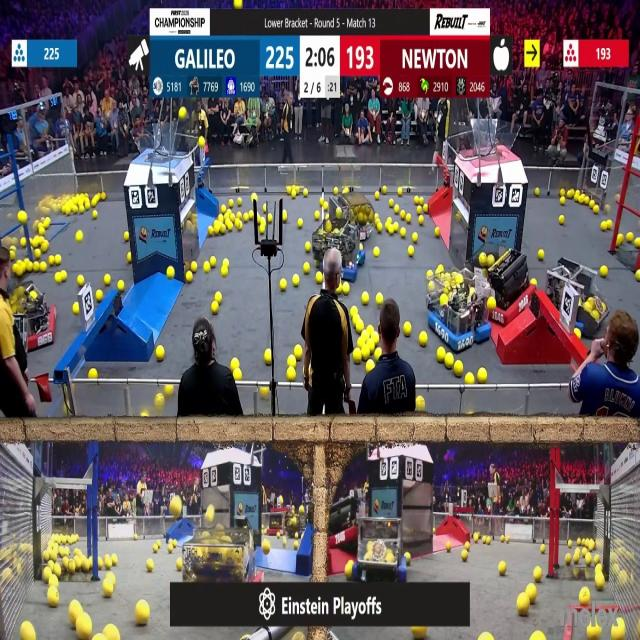ball_airborne: (171, 496, 182, 516), (206, 508, 215, 524), (179, 107, 187, 119), (199, 137, 206, 148), (235, 0, 243, 9)
ball_ground: (136, 603, 150, 627), (518, 595, 530, 615), (47, 588, 58, 608), (70, 601, 80, 623), (23, 624, 36, 640), (103, 581, 114, 599), (527, 585, 537, 603), (581, 588, 591, 606), (105, 626, 118, 639), (454, 360, 463, 376), (416, 396, 426, 410), (591, 626, 601, 640), (596, 577, 605, 592), (353, 349, 362, 363), (158, 346, 166, 361), (346, 563, 354, 578), (154, 393, 162, 408), (479, 367, 487, 381), (293, 346, 301, 360), (498, 562, 506, 576), (533, 568, 541, 582), (438, 348, 446, 362), (42, 567, 50, 581), (286, 367, 295, 379), (165, 384, 174, 396), (266, 349, 273, 364), (420, 334, 428, 347), (446, 354, 454, 367), (365, 359, 373, 371), (263, 384, 271, 396), (55, 564, 63, 576), (82, 559, 90, 571), (375, 348, 382, 361), (403, 322, 410, 335), (264, 540, 271, 553), (61, 272, 69, 283), (373, 335, 381, 346), (168, 268, 175, 280), (600, 266, 607, 278), (377, 292, 384, 304), (212, 303, 219, 315), (27, 262, 34, 274), (362, 348, 369, 360), (90, 367, 98, 377), (465, 374, 473, 384), (234, 368, 242, 378), (232, 358, 240, 368), (214, 292, 222, 302), (287, 356, 295, 366), (236, 220, 244, 230), (49, 574, 57, 584), (214, 223, 222, 233), (316, 273, 323, 284), (104, 275, 111, 286), (210, 256, 217, 267), (343, 283, 350, 294), (351, 307, 358, 318), (532, 633, 543, 640), (105, 558, 112, 569), (362, 292, 368, 304), (147, 560, 153, 572), (117, 280, 123, 292), (292, 276, 298, 288), (99, 558, 105, 570), (481, 634, 493, 640), (356, 321, 362, 333), (627, 234, 634, 244), (374, 247, 381, 257), (461, 552, 468, 562), (565, 555, 572, 565), (586, 556, 593, 566), (11, 265, 18, 275), (304, 264, 310, 275), (204, 263, 210, 274), (538, 249, 544, 260), (190, 263, 196, 274), (73, 304, 79, 315), (76, 232, 82, 243), (77, 276, 83, 287), (35, 248, 41, 259), (280, 280, 286, 291), (111, 555, 117, 566), (573, 553, 579, 564), (92, 199, 99, 208), (566, 189, 573, 198), (186, 273, 192, 283), (409, 246, 415, 256), (306, 242, 312, 252), (97, 290, 103, 300), (296, 218, 302, 228), (56, 272, 61, 284), (378, 222, 384, 232), (258, 223, 264, 233), (177, 559, 182, 571), (93, 210, 99, 220), (226, 221, 232, 231), (282, 212, 288, 222), (221, 268, 227, 278), (574, 328, 580, 338), (48, 255, 54, 265), (42, 241, 48, 251), (606, 219, 612, 229), (34, 264, 40, 274), (618, 235, 624, 245), (227, 212, 233, 222), (426, 271, 433, 279), (434, 229, 440, 238), (56, 255, 62, 264), (413, 234, 419, 243), (40, 264, 46, 273), (560, 198, 566, 207), (78, 206, 84, 215), (594, 206, 600, 215), (243, 213, 249, 222), (9, 251, 15, 260), (366, 324, 372, 333), (428, 282, 434, 291), (257, 214, 263, 223), (439, 266, 445, 275), (486, 538, 492, 547), (382, 185, 388, 194), (128, 252, 133, 262), (315, 210, 320, 220), (249, 210, 254, 220), (357, 338, 362, 348), (338, 284, 343, 294), (19, 239, 25, 247), (222, 258, 228, 266), (417, 207, 423, 215), (539, 544, 545, 552), (251, 192, 257, 200), (388, 200, 394, 208), (407, 214, 413, 222), (208, 226, 214, 234), (227, 200, 233, 208), (99, 194, 105, 202), (238, 199, 244, 207), (123, 233, 128, 242), (419, 215, 424, 224), (559, 215, 564, 224), (447, 541, 452, 550), (601, 221, 606, 230), (635, 238, 640, 247), (472, 534, 478, 541), (534, 188, 540, 195), (387, 217, 393, 224), (220, 206, 226, 213), (237, 212, 243, 219), (326, 213, 332, 220), (397, 188, 403, 195), (218, 214, 224, 221), (293, 541, 299, 548), (636, 272, 640, 282), (269, 214, 274, 222), (400, 230, 405, 238), (376, 191, 381, 199), (400, 210, 404, 220), (169, 544, 174, 552), (423, 205, 428, 213), (73, 206, 78, 214), (394, 222, 398, 231), (152, 544, 157, 551), (386, 227, 391, 234), (560, 188, 565, 195), (304, 189, 309, 196), (264, 205, 269, 212), (465, 541, 469, 549), (324, 203, 328, 211), (394, 206, 398, 214), (291, 190, 295, 198), (568, 539, 572, 547), (283, 536, 287, 544), (500, 535, 505, 541), (532, 279, 536, 286), (134, 537, 138, 544), (359, 244, 363, 251), (278, 535, 281, 541)
goal: (467, 123, 521, 159), (130, 130, 188, 160)
robot_blue: (426, 270, 491, 353), (312, 220, 368, 283), (356, 522, 406, 588), (546, 260, 590, 330), (282, 507, 308, 541)
robot_red: (11, 286, 55, 351), (269, 513, 285, 535)
